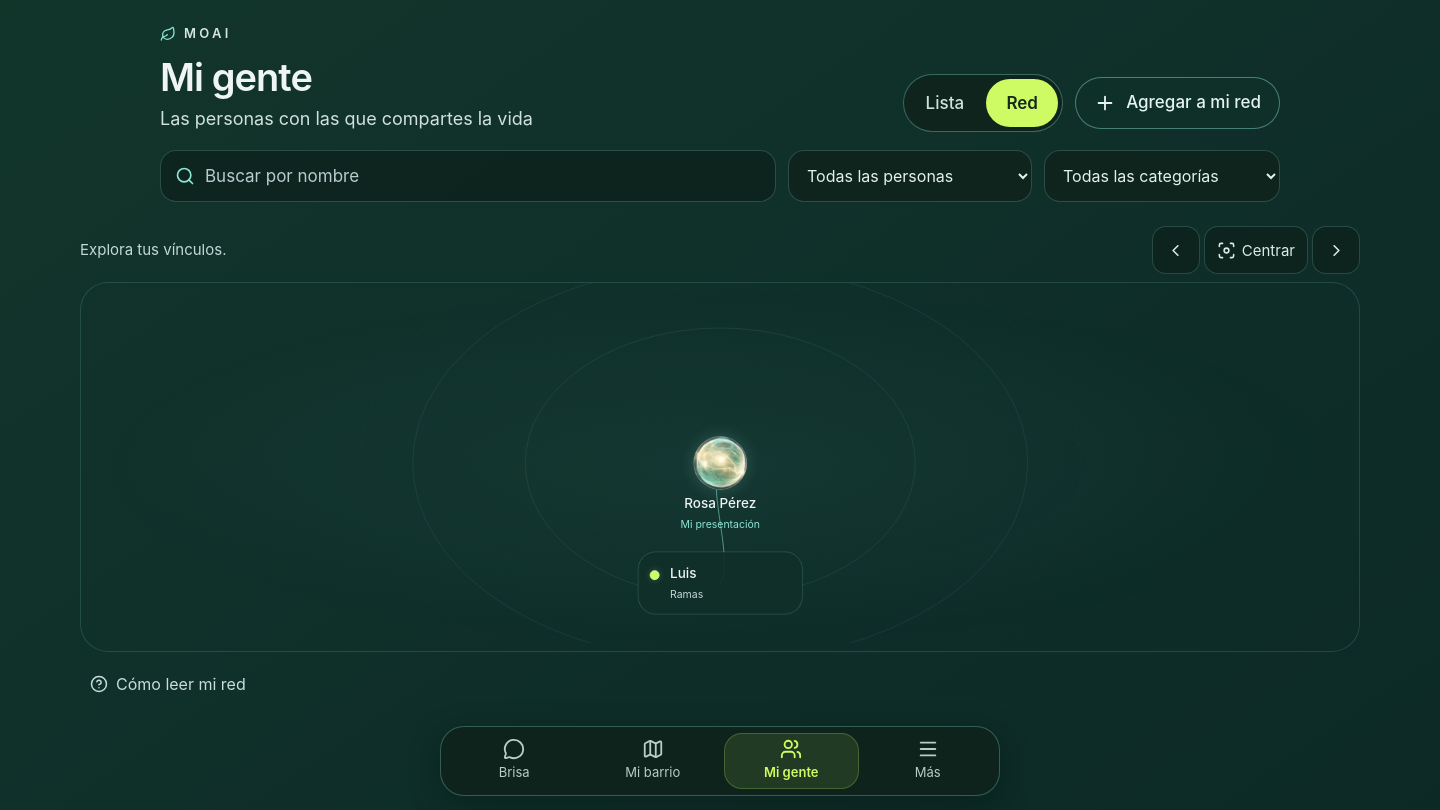
Test: Red orbital y ficha personal › abre Red por defecto, conserva la preferencia de vista y mantiene la persona elegida al pasar a Lista
The width and height of the screenshot is (1440, 810).
Click the button "Luis Ramas" at coordinates (720, 583), box [638, 552, 802, 615]
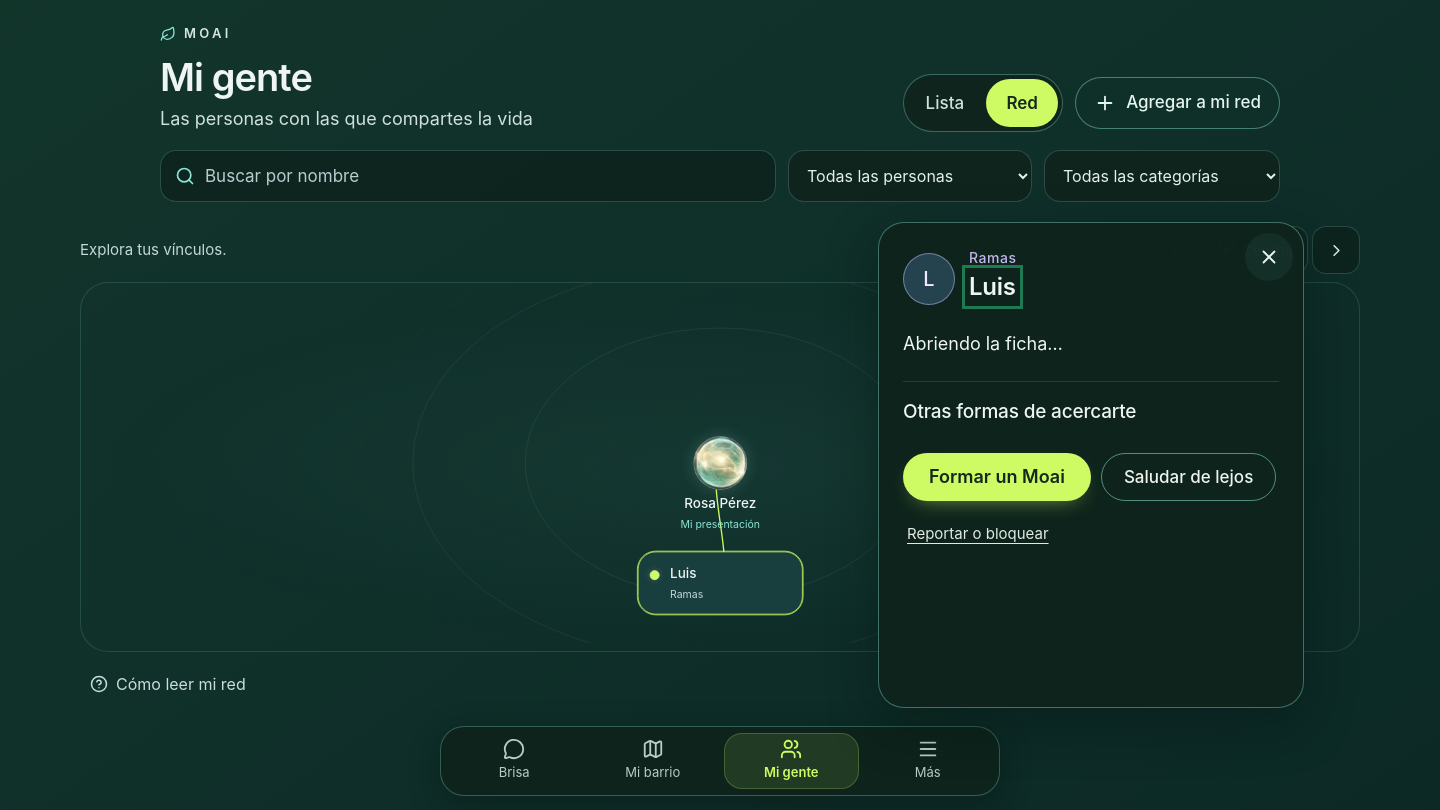
Click the button "Lista" at coordinates (945, 103), box [908, 79, 982, 127]
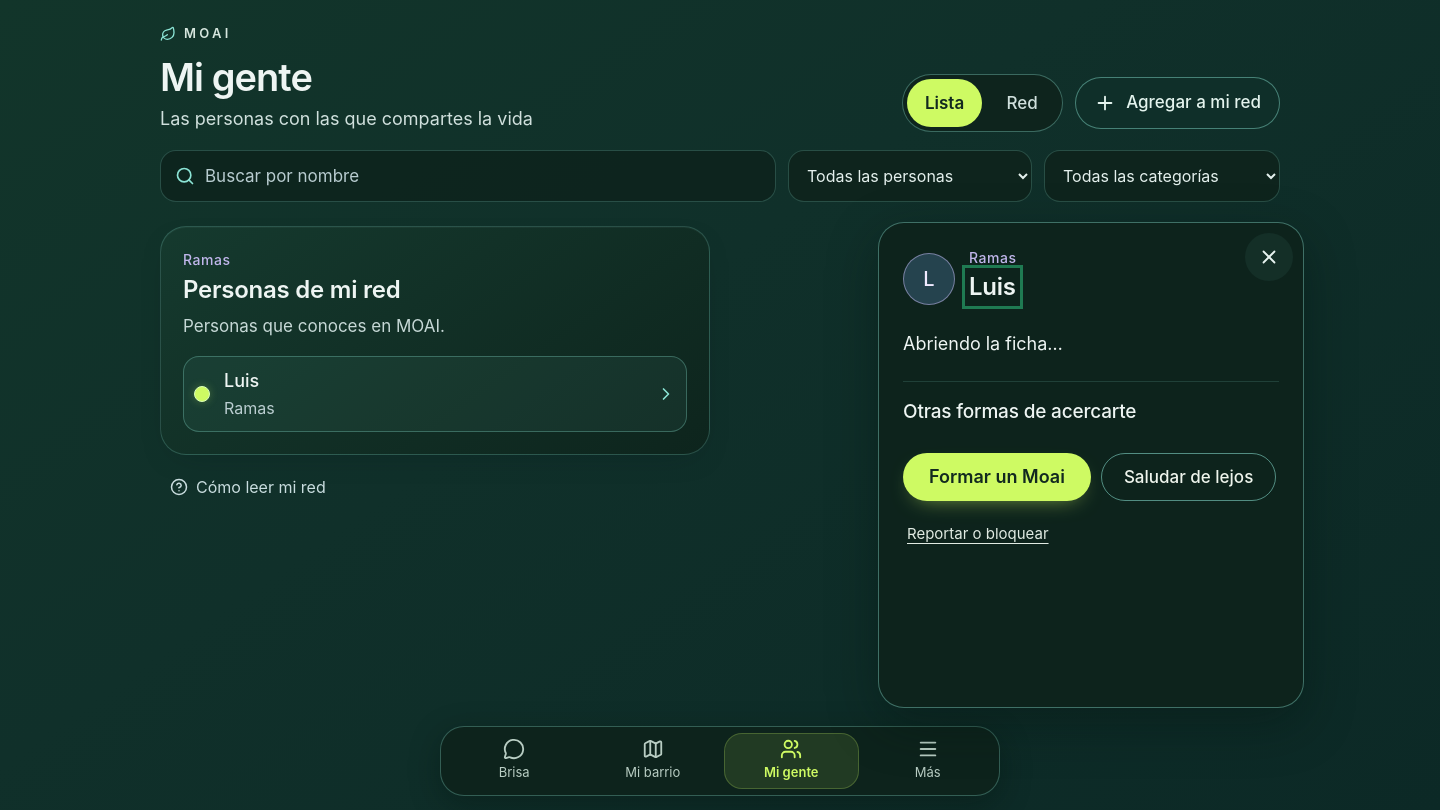
Check: the dialog "Luis" is shown, box [878, 222, 1304, 708]
Press Escape
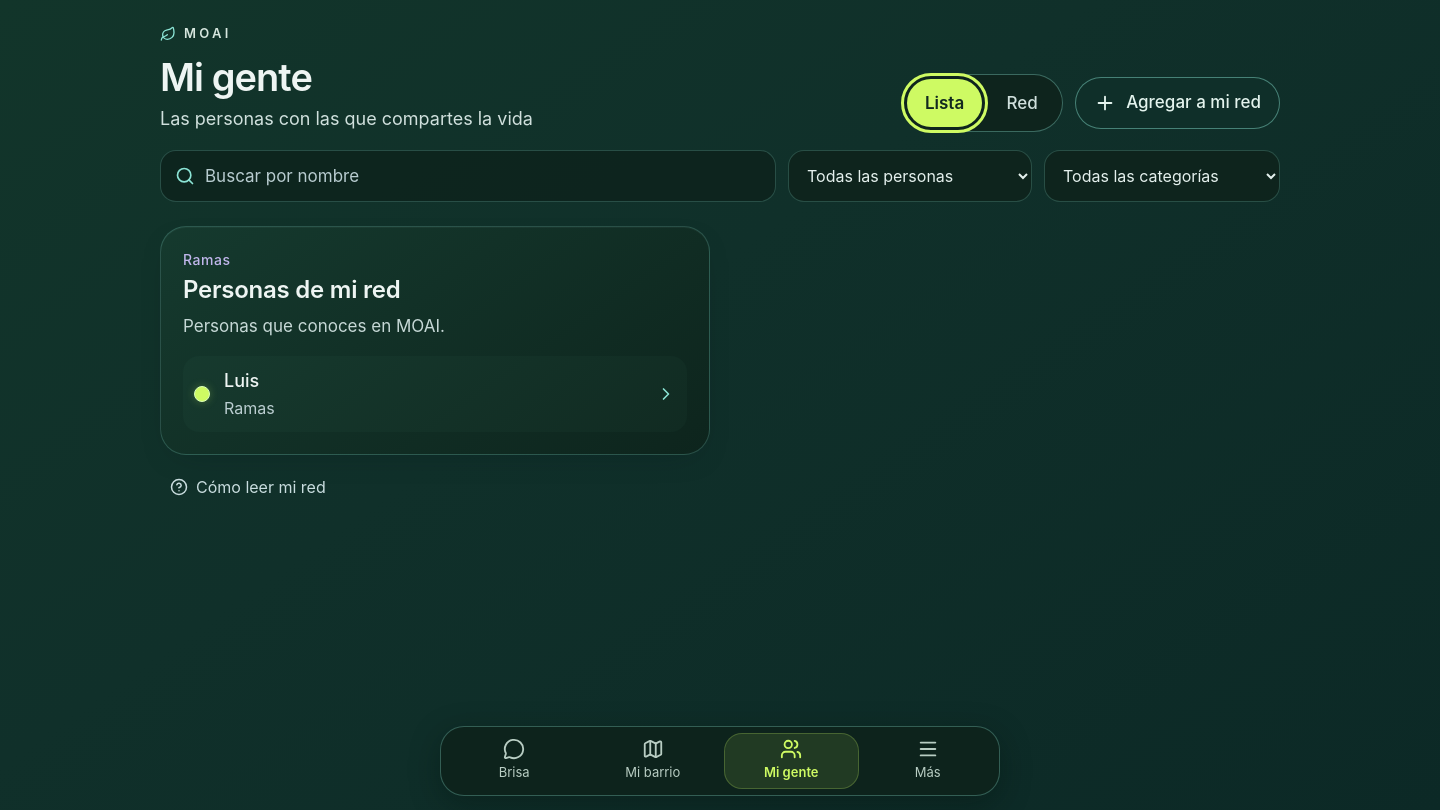
Check: the dialog is gone
